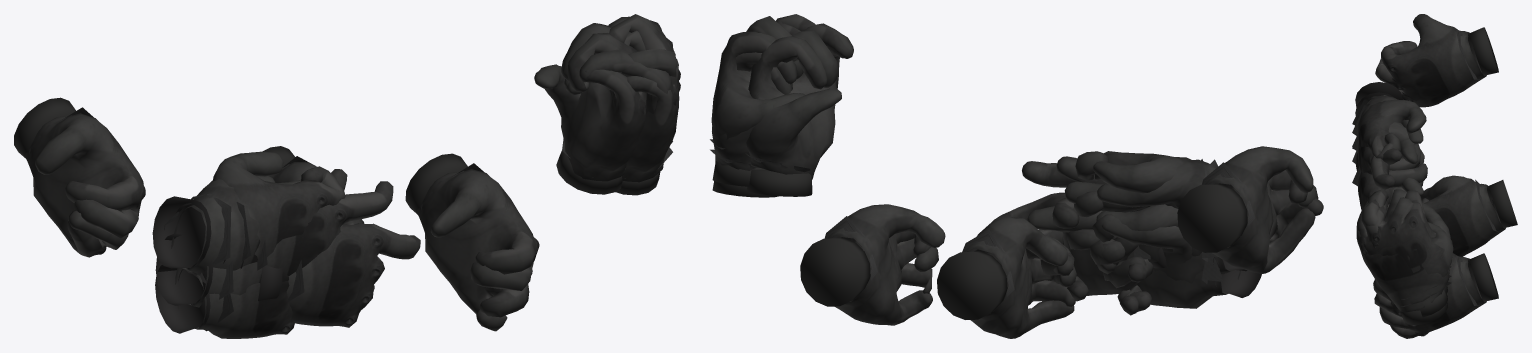
File: weapon-grips.glb
3 views of the same model, side by side, from view 1: azimuth 30°, elevation 25°; view 2: azimuth 150°, elevation 25°; view 3: azimuth 270°, elevation 25° (orthographic). The views are drawn at different scales.
Parts seen in each view (by area): view 1: grip_1_l, grip_7_l, grip_3_l, grip_5_r, grip_3_r, grip_7_r, grip_1_r, grip_2_l, grip_6_r, grip_6_l, grip_2_r, grip_5_l; view 2: grip_7_l, grip_1_l, grip_5_l, grip_3_l, grip_6_l, grip_1_r, grip_7_r, grip_5_r, grip_3_r, grip_2_r, grip_6_r, grip_2_l; view 3: grip_7_l, grip_6_l, grip_5_l, grip_1_l, grip_2_l, grip_7_r, grip_6_r, grip_3_r, grip_3_l, grip_5_r.
Boxes of the visible parts, x1,y1,x2,y2 form: grip_1_l: [405, 153, 539, 331]; grip_7_l: [14, 97, 145, 257]; grip_3_l: [534, 23, 646, 194]; grip_5_r: [258, 223, 420, 327]; grip_3_r: [152, 169, 347, 275]; grip_7_r: [176, 151, 345, 275]; grip_1_r: [155, 265, 294, 338]; grip_2_l: [564, 30, 680, 195]; grip_6_r: [240, 179, 393, 275]; grip_6_l: [565, 14, 680, 143]; grip_2_r: [155, 233, 288, 307]; grip_5_l: [262, 146, 364, 224]; grip_7_l: [1177, 146, 1323, 273]; grip_1_l: [800, 204, 945, 325]; grip_5_l: [937, 216, 1076, 338]; grip_3_l: [745, 23, 853, 196]; grip_6_l: [710, 14, 815, 186]; grip_1_r: [1097, 218, 1261, 311]; grip_7_r: [1074, 151, 1202, 265]; grip_5_r: [991, 192, 1167, 301]; grip_3_r: [1056, 156, 1218, 282]; grip_2_r: [1090, 204, 1247, 315]; grip_6_r: [1022, 161, 1165, 274]; grip_2_l: [710, 23, 803, 197]; grip_7_l: [1375, 14, 1498, 107]; grip_6_l: [1356, 197, 1453, 317]; grip_5_l: [1420, 175, 1517, 256]; grip_1_l: [1373, 253, 1498, 338]; grip_2_l: [1356, 206, 1451, 325]; grip_7_r: [1352, 92, 1426, 170]; grip_6_r: [1352, 116, 1427, 192]; grip_3_r: [1352, 82, 1423, 167]; grip_3_l: [1365, 189, 1451, 293]; grip_5_r: [1352, 153, 1428, 210].
Size of the model in its own units: 0.6743 by 0.3025 by 0.2362.
1 material, 1 textured.
